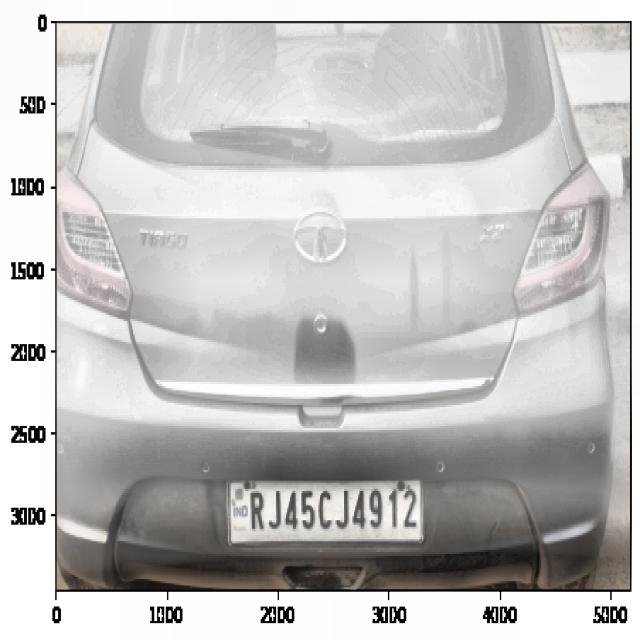license_plate: (242, 478, 422, 544)
